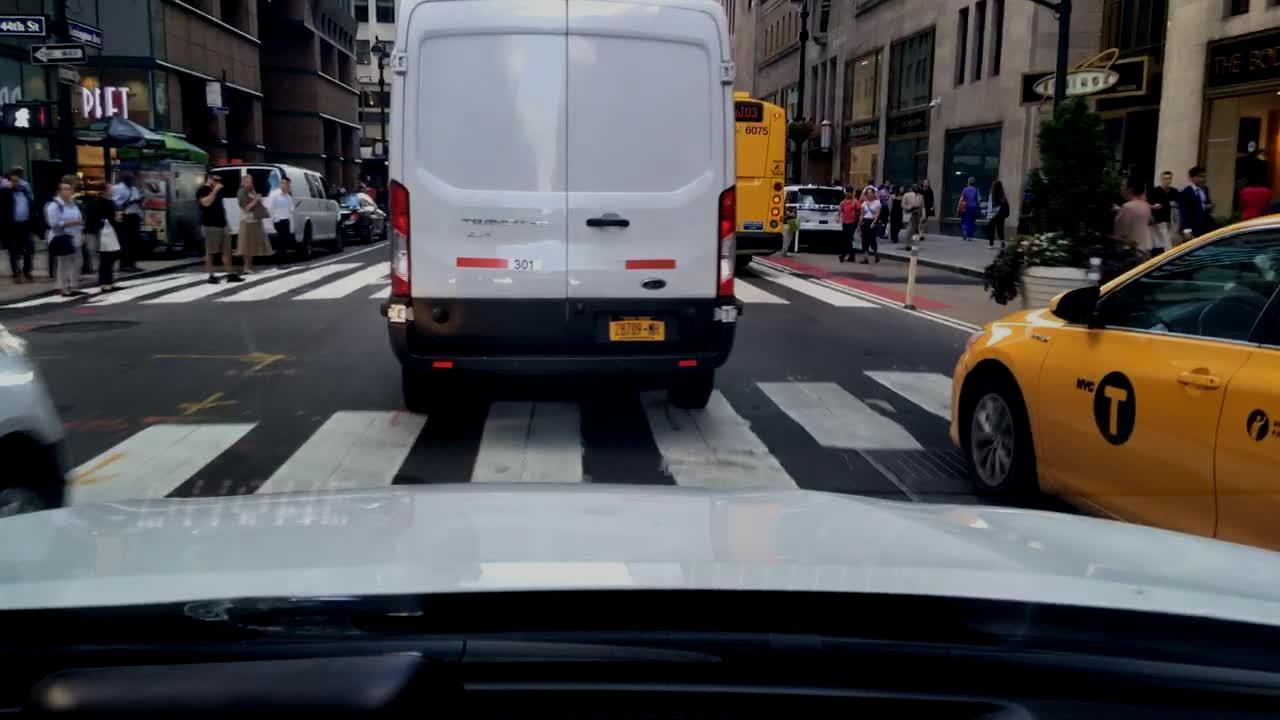ford: (643, 276, 668, 296)
